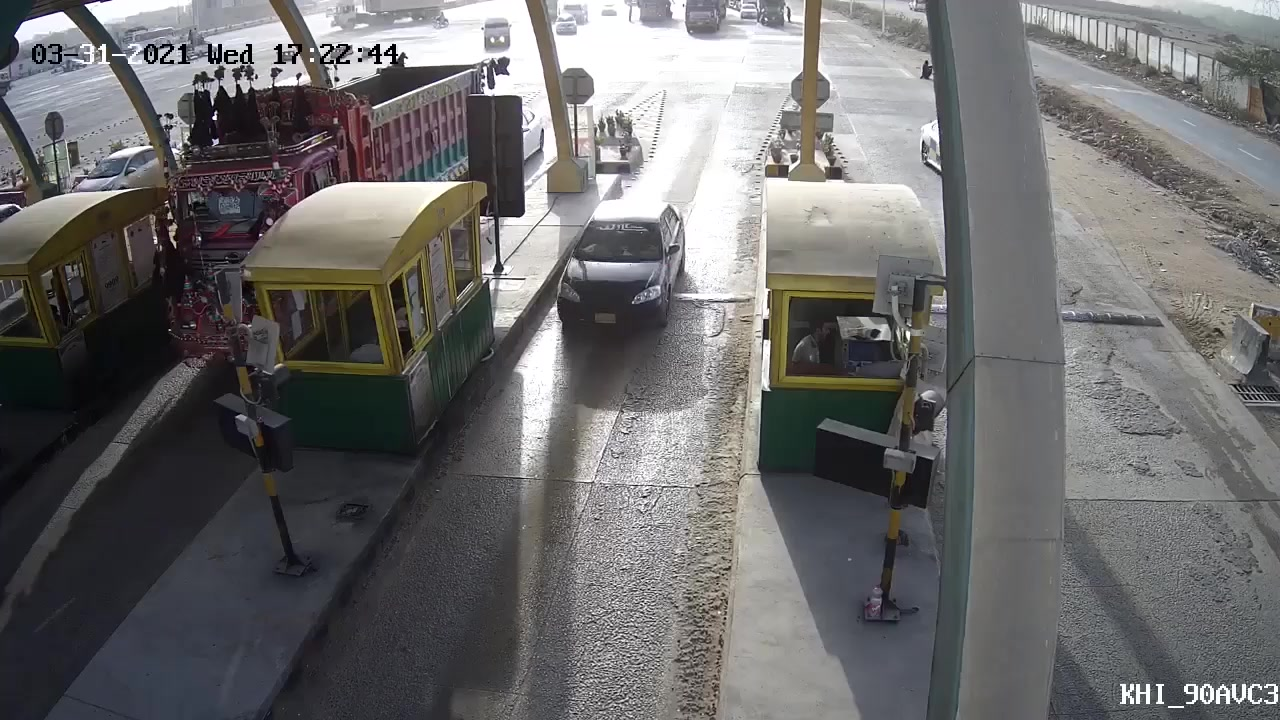F1: (539, 192, 699, 344)
